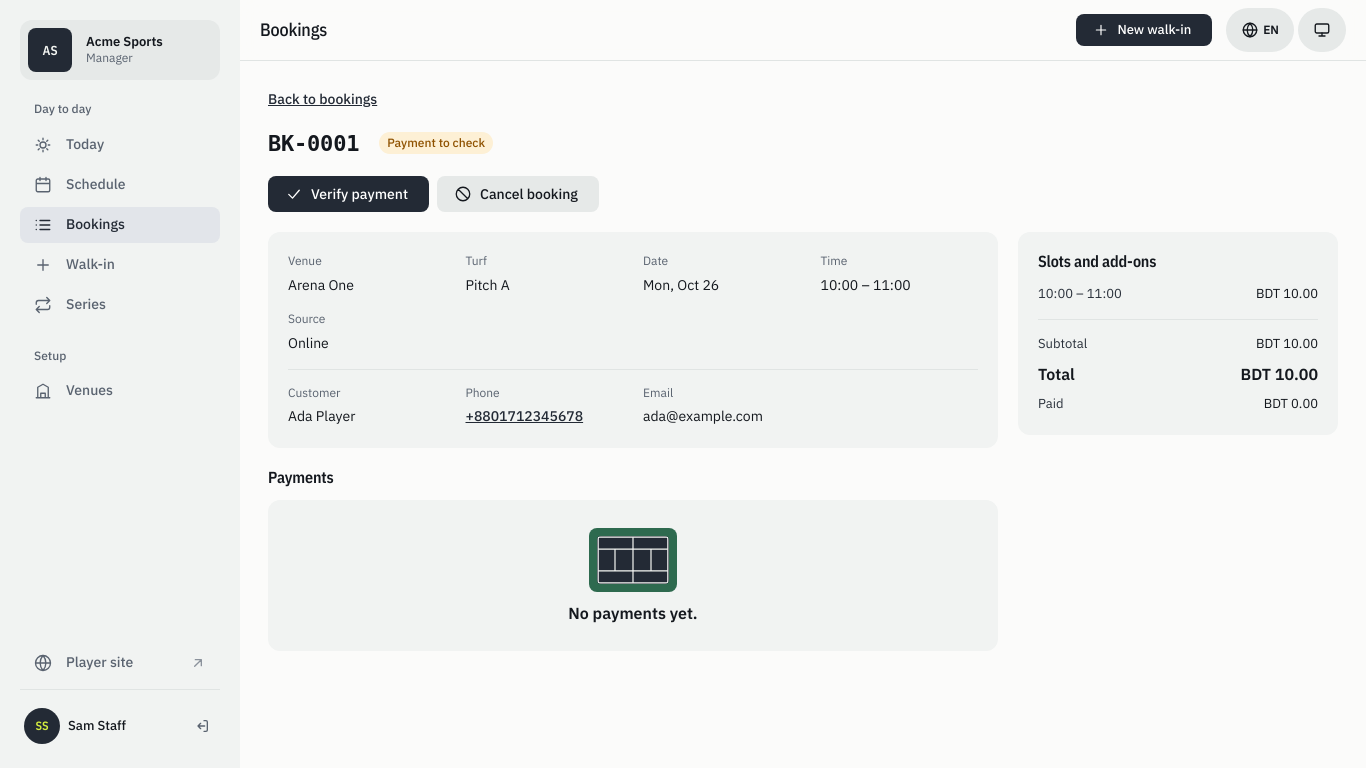
Test: owner booking detail › verify on the booking page reloads and shows the new overpayment refund
This screenshot has width=1366, height=768.
Click the button "Verify payment": (348, 194) [268,176,429,212]
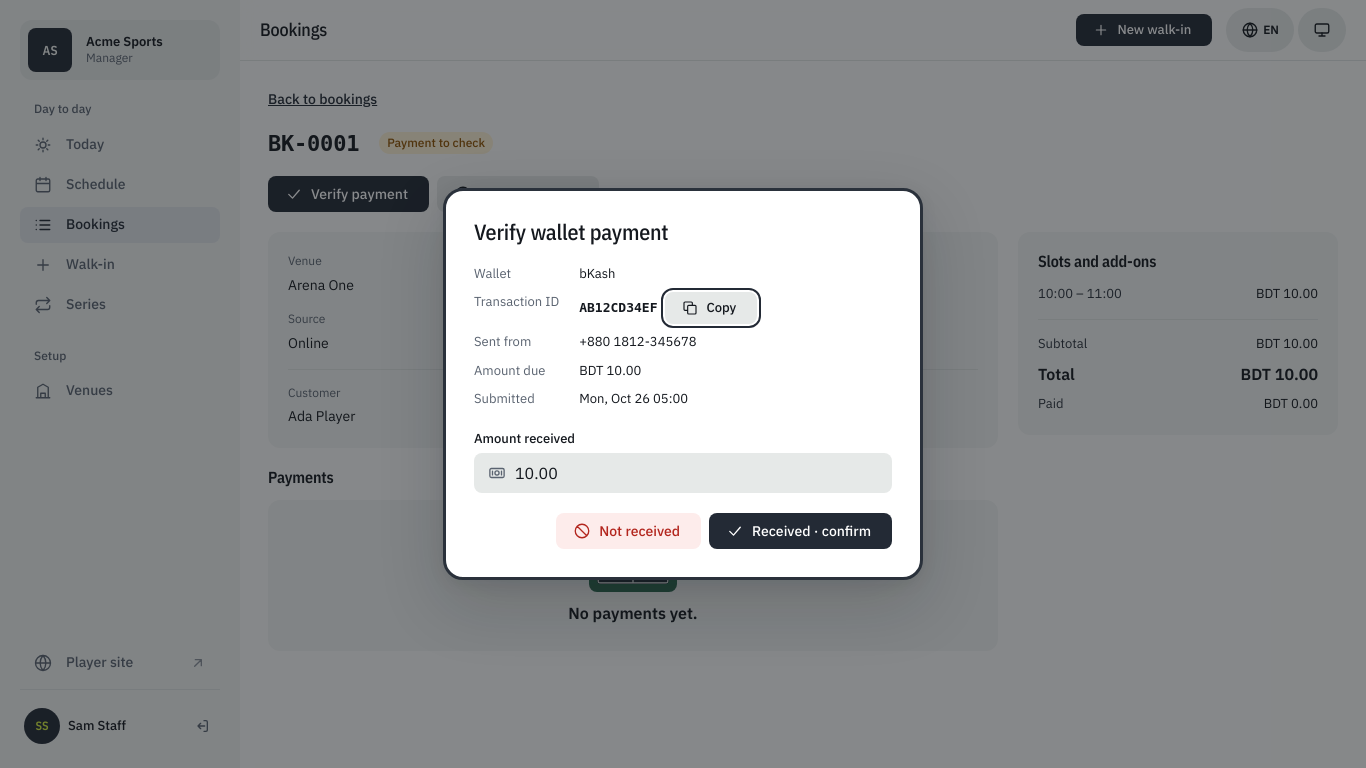
Click the button "Received · confirm": (801, 531) [709,513,892,549]
(page scrolled)
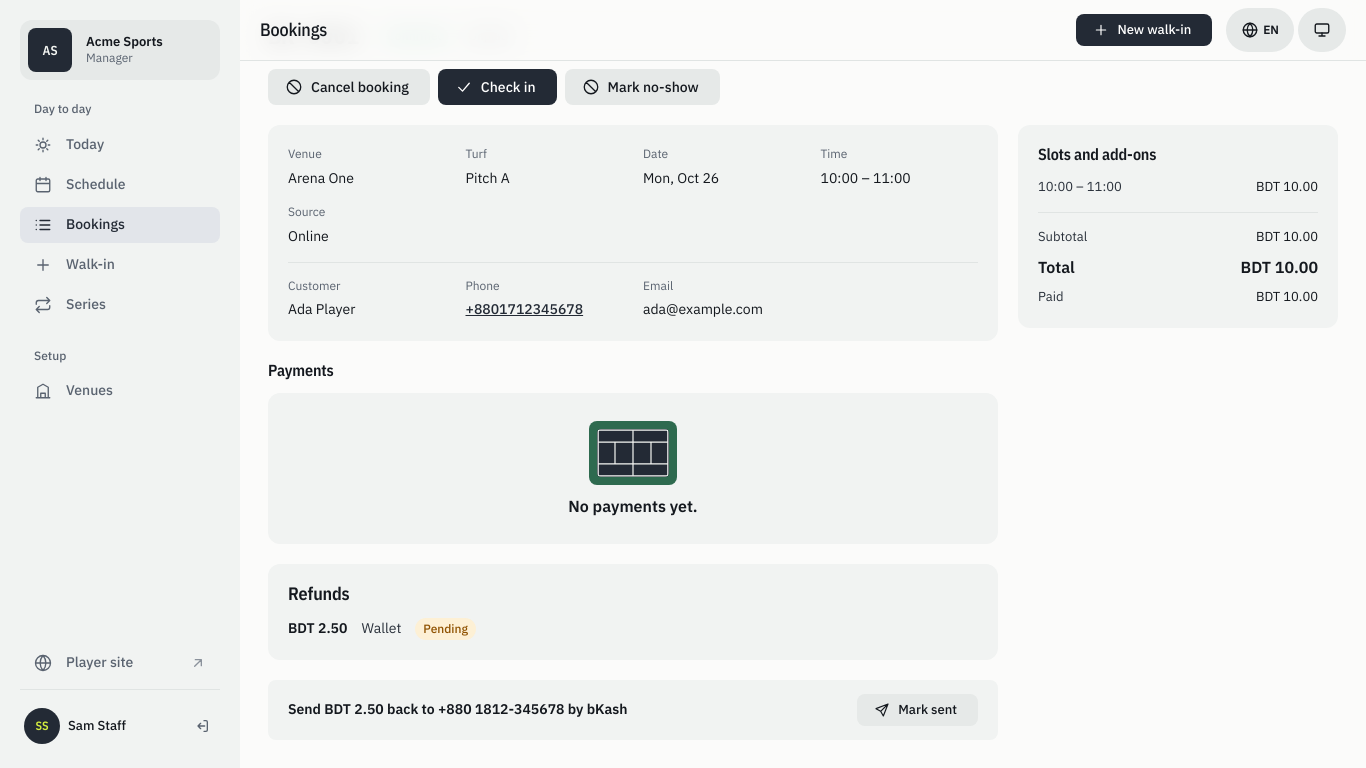
Expected: the text "Send BDT 2.50 back to +880 1812-345678 by bKash" is shown, [288,699,628,721]
